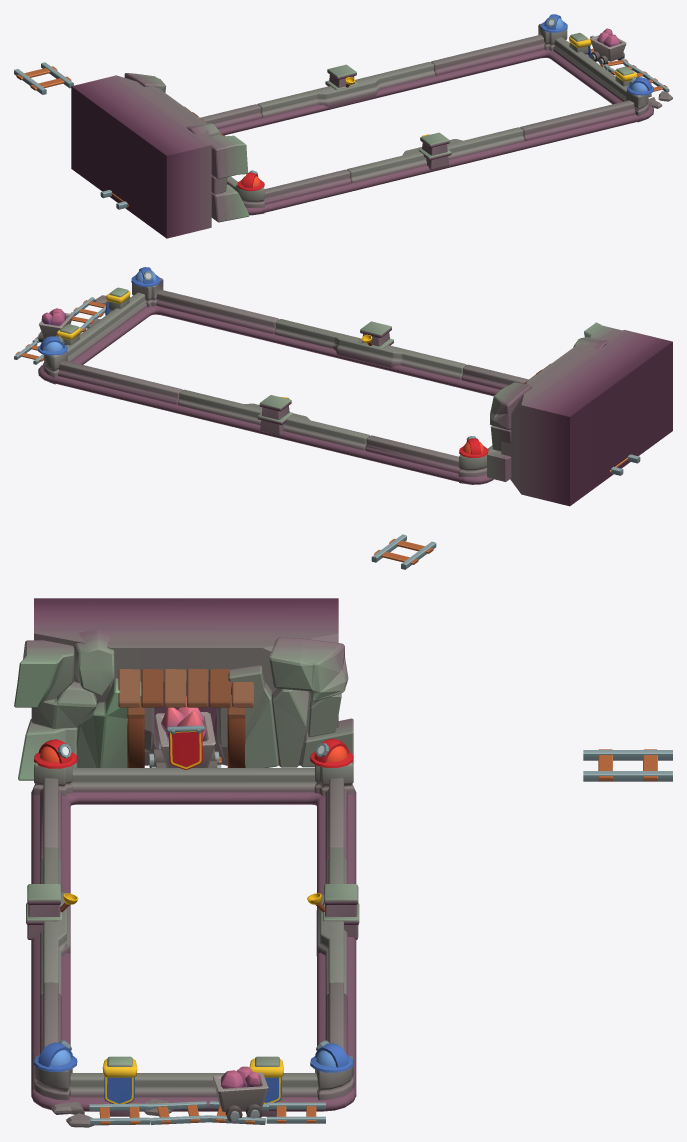
The model's file is Arena8.fbx.
The picture shows the model from 3 angles, top to bottom: view 1: azimuth 30°, elevation 25°; view 2: azimuth 150°, elevation 25°; view 3: azimuth 270°, elevation 25°; orthographic projection. The views are drawn at different scales.
Visible parts, largest first — view 1: Cube.122, Circle.122, Circle.108, Circle.124, Circle.107, Circle.123, Circle.121, Cube.136, Circle.105, Circle.114, Cube.134, Circle.109 (+12 smaller); view 2: Cube.122, Circle.107, Circle.124, Circle.122, Circle.108, Circle.121, Circle.123, Circle.104, Circle.114, Cube.125, Circle.109, Cube.114 (+6 smaller); view 3: Cube.122, Circle.103, Cube.129, Cube.125, Circle.107, Circle.114, Circle.108, Circle.102, Cube.132, Cube.136, Cube.123, Circle.122 (+31 smaller).
Boxes of the visible parts, x1=… form: Cube.122: x1=71, y1=75, x2=211, y2=238; Circle.122: x1=257, y1=61, x2=435, y2=117; Circle.108: x1=259, y1=114, x2=644, y2=213; Circle.124: x1=347, y1=127, x2=524, y2=183; Circle.107: x1=218, y1=50, x2=541, y2=135; Circle.123: x1=520, y1=100, x2=635, y2=141; Circle.121: x1=431, y1=34, x2=544, y2=75; Cube.136: x1=210, y1=134, x2=248, y2=179; Circle.105: x1=263, y1=169, x2=351, y2=204; Circle.114: x1=553, y1=37, x2=628, y2=101; Cube.134: x1=211, y1=184, x2=249, y2=222; Circle.109: x1=541, y1=49, x2=653, y2=120; Cube.122: x1=501, y1=330, x2=672, y2=506; Circle.107: x1=48, y1=376, x2=464, y2=483; Circle.124: x1=274, y1=319, x2=466, y2=379; Circle.122: x1=178, y1=389, x2=369, y2=450; Circle.108: x1=159, y1=306, x2=500, y2=396; Circle.121: x1=58, y1=360, x2=182, y2=404; Circle.123: x1=156, y1=289, x2=279, y2=333; Circle.104: x1=365, y1=435, x2=460, y2=473; Circle.114: x1=65, y1=292, x2=146, y2=361; Cube.125: x1=490, y1=382, x2=531, y2=429; Circle.109: x1=38, y1=305, x2=159, y2=382; Cube.114: x1=257, y1=395, x2=293, y2=435; Cube.122: x1=34, y1=598, x2=338, y2=765; Circle.103: x1=71, y1=768, x2=316, y2=792; Cube.129: x1=118, y1=669, x2=253, y2=707; Cube.125: x1=269, y1=637, x2=348, y2=702; Circle.107: x1=317, y1=791, x2=356, y2=1096; Circle.114: x1=70, y1=1073, x2=318, y2=1097; Circle.108: x1=31, y1=792, x2=70, y2=1092; Circle.102: x1=31, y1=789, x2=356, y2=805; Cube.132: x1=76, y1=678, x2=141, y2=767; Cube.136: x1=14, y1=640, x2=74, y2=707; Cube.123: x1=228, y1=665, x2=278, y2=767; Circle.122: x1=316, y1=847, x2=347, y2=997.
Bounding box in the file's own units: 47.5 × 7.45 × 31.97.
